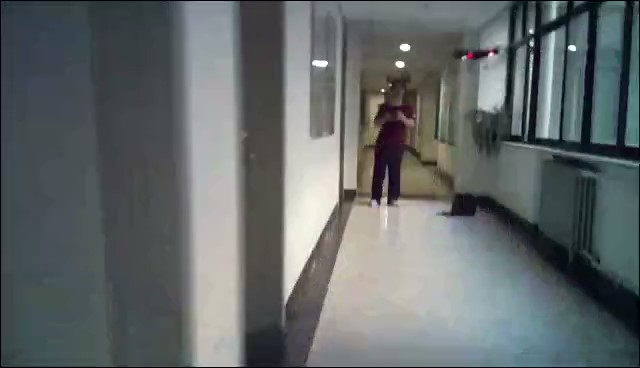drone: (451, 46, 503, 65)
person: (369, 78, 416, 208)
